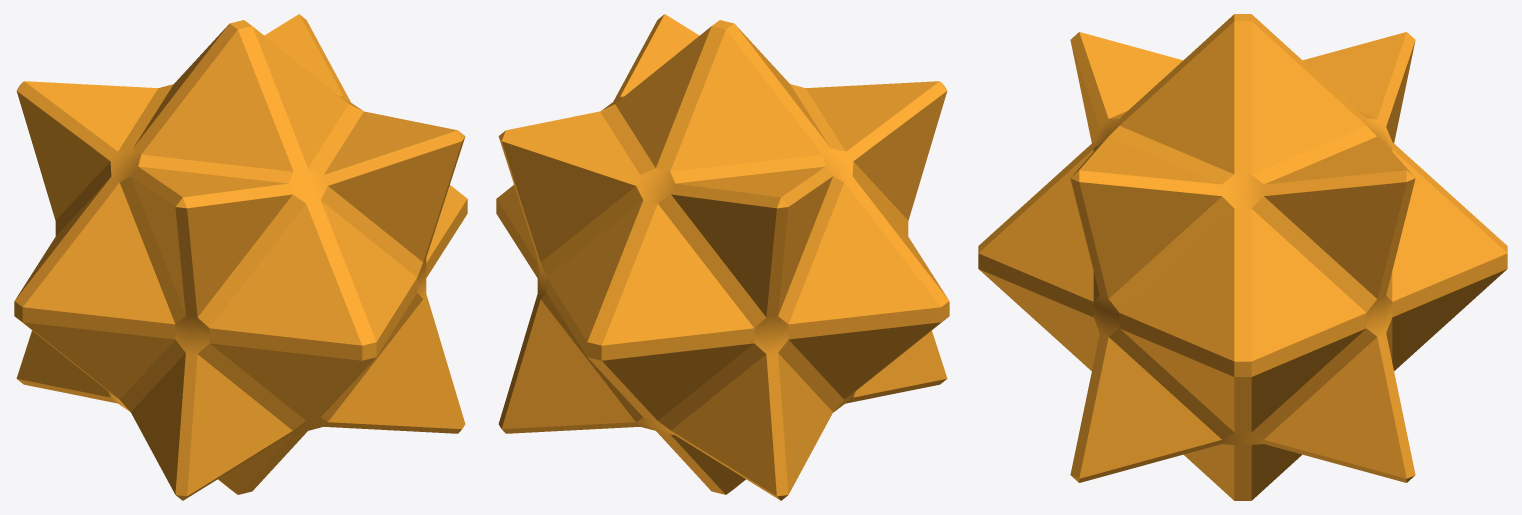
The model's file is star object yellow.fbx.
3 views of the same model, side by side, from view 1: azimuth 30°, elevation 25°; view 2: azimuth 150°, elevation 25°; view 3: azimuth 270°, elevation 25° (orthographic). The views are drawn at different scales.
Visible parts, largest first — view 1: Cube_002; view 2: Cube_002; view 3: Cube_002.
Boxes of the visible parts, x1,y1,x2,y2 form: Cube_002: (14, 14, 467, 500); Cube_002: (496, 14, 949, 500); Cube_002: (978, 14, 1507, 500).
Bounding box in the file's own units: 141 × 141 × 141.
